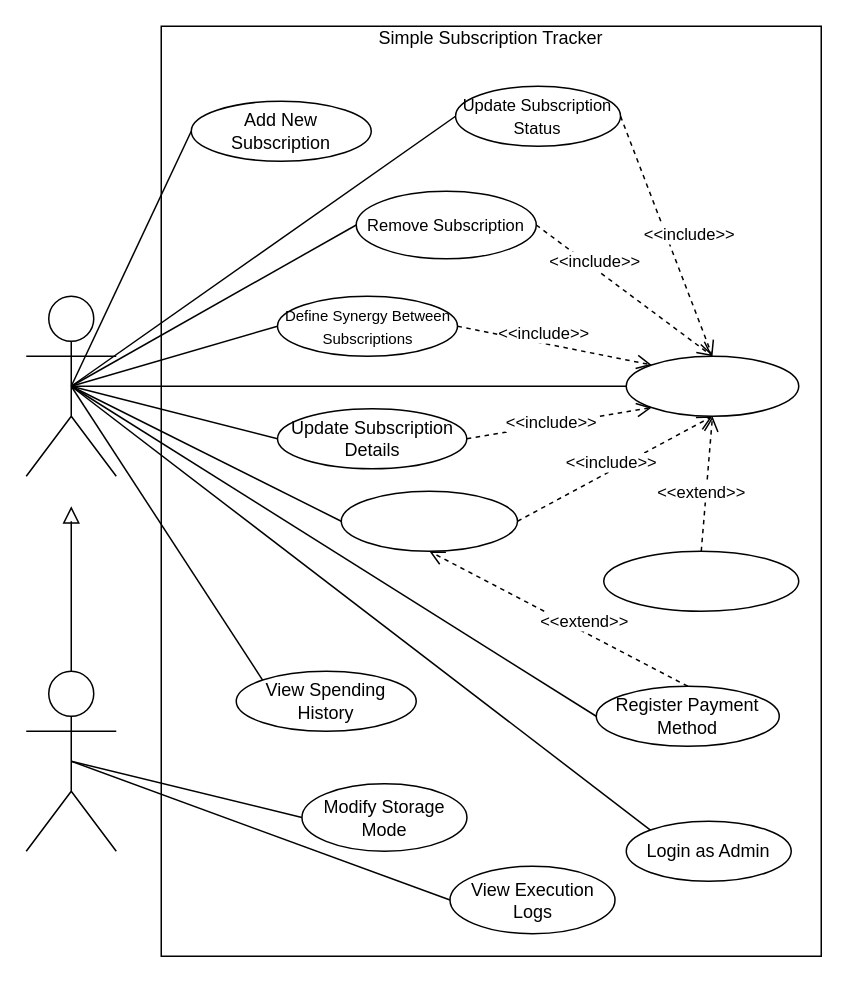
Image size: 848x983. Some labels were removed from this diagram. The centre of each missing label's shape, as x and y in pixels:
"Admin" goes at point 70,760.
"Filter/Sort Subscription Catalog" goes at point 700,580.
"Log Payment" goes at point 429,520.
"User" goes at point 70,385.
"View Subscription Catalog" goes at point 712,385.
